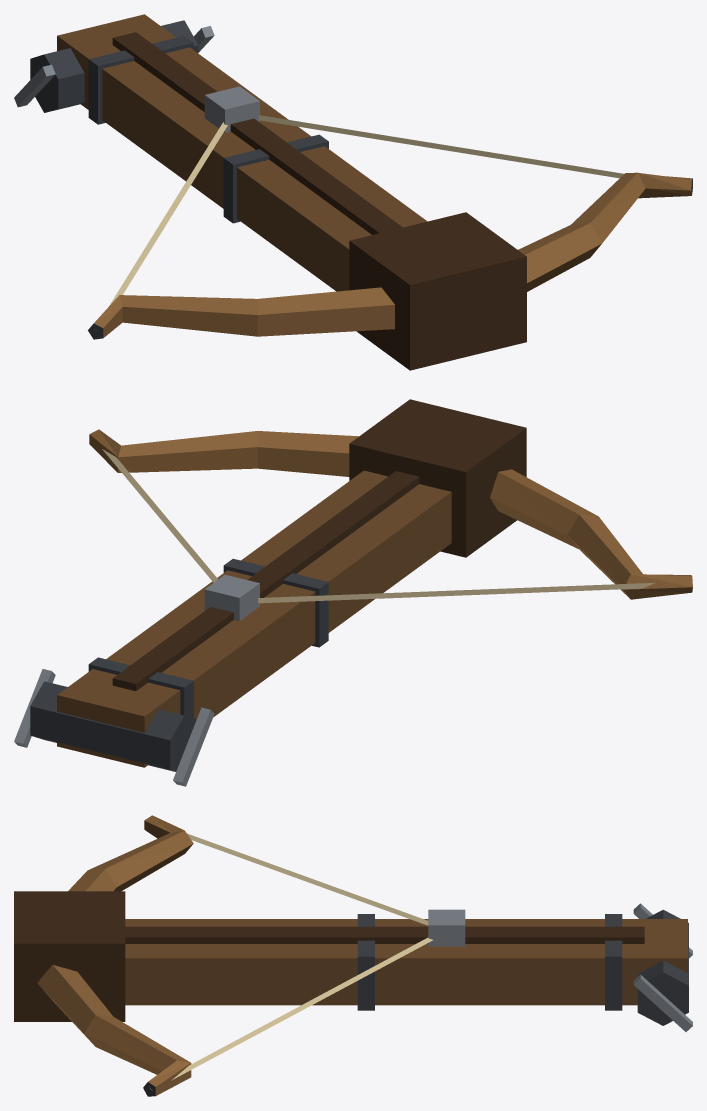
Rendered from dk_ballista_head.glb.
3 renders of one model, top to bottom at view 1: azimuth 30°, elevation 25°; view 2: azimuth 150°, elevation 25°; view 3: azimuth 270°, elevation 25°, orthographic. The views are drawn at different scales.
Parts seen in each view (by area): view 1: dk_ballista_head; view 2: dk_ballista_head; view 3: dk_ballista_head.
Part boxes in pixels (x1,y1,x2,y2): dk_ballista_head: (14, 14, 692, 370); dk_ballista_head: (14, 399, 692, 786); dk_ballista_head: (14, 815, 692, 1096).
Bounding box in the file's own units: 5.17 × 0.7 × 5.49.
1 material, 1 textured.
